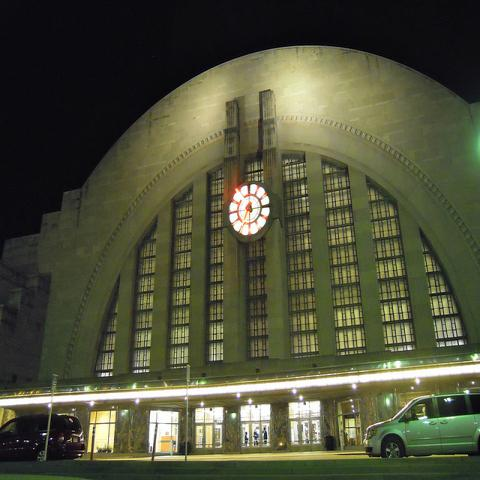car: (362, 392, 480, 459), (0, 413, 85, 461)
